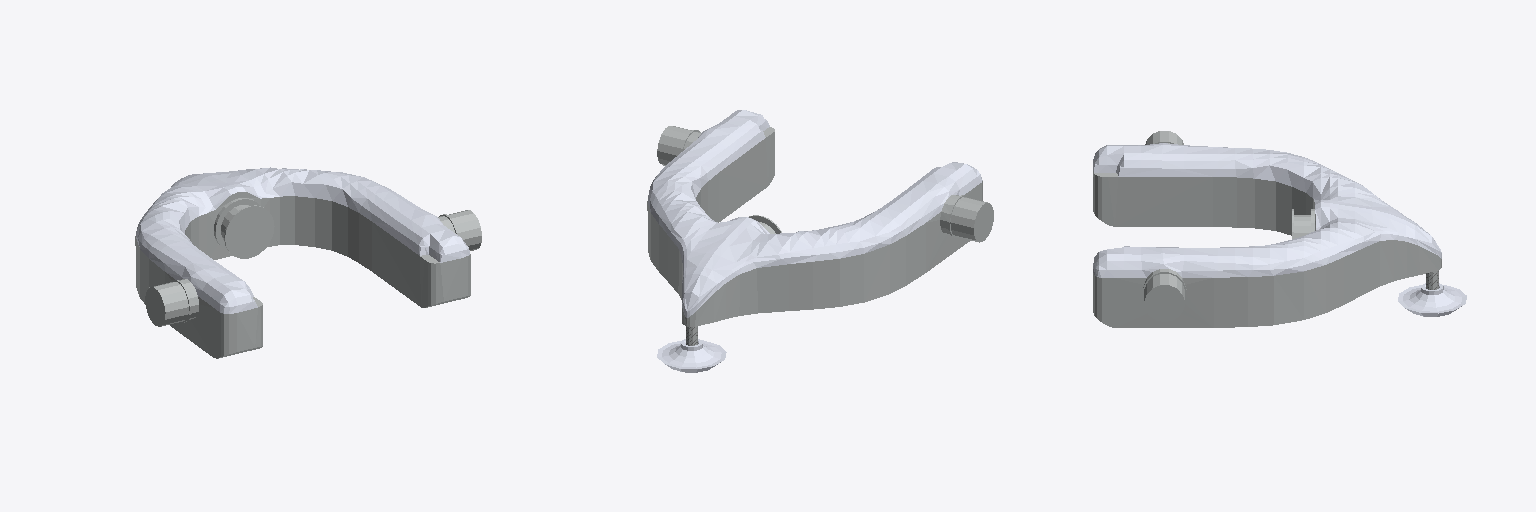
3 renders of one model, left to right at view 1: azimuth 30°, elevation 25°; view 2: azimuth 150°, elevation 25°; view 3: azimuth 270°, elevation 25°, orthographic.
Parts seen in each view (by area): view 1: base; view 2: base; view 3: base.
Part boxes in pixels (left/top/right/bottom): base: left=135, top=167, right=481, bottom=358; base: left=647, top=110, right=993, bottom=372; base: left=1093, top=131, right=1466, bottom=327.
Bounding box in the file's own units: 0.5804 × 0.199 × 0.5945.
Materials: 1 (1 with a texture image).